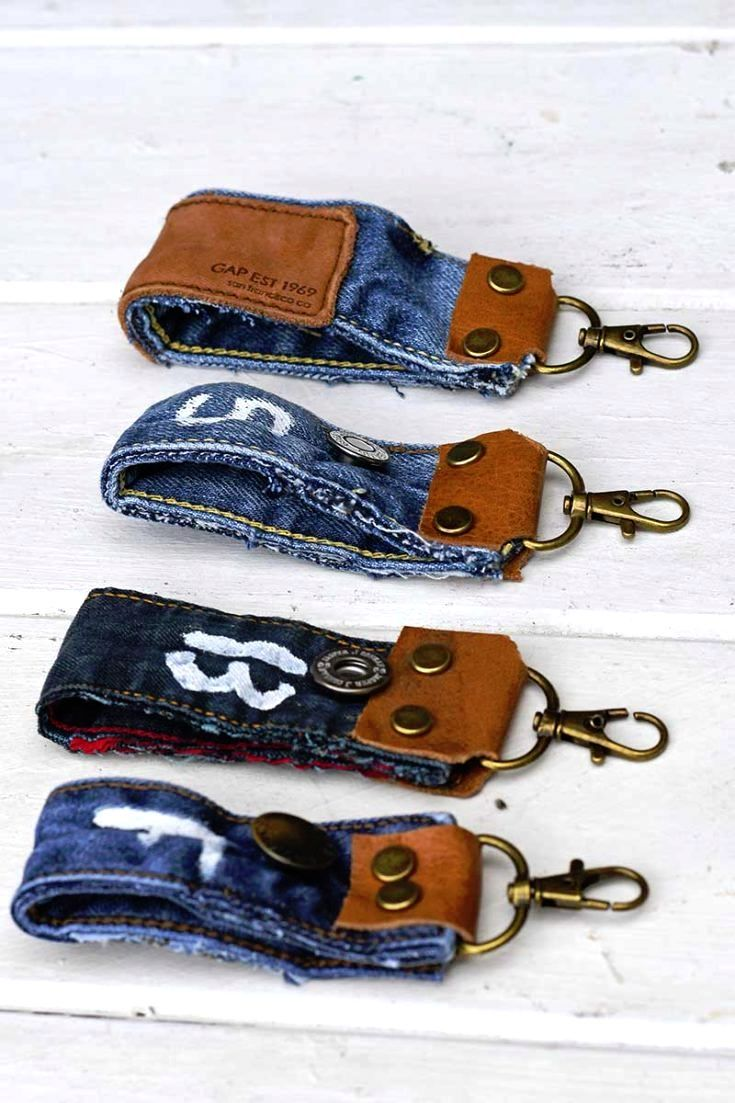cuero: (115, 188, 559, 942)
